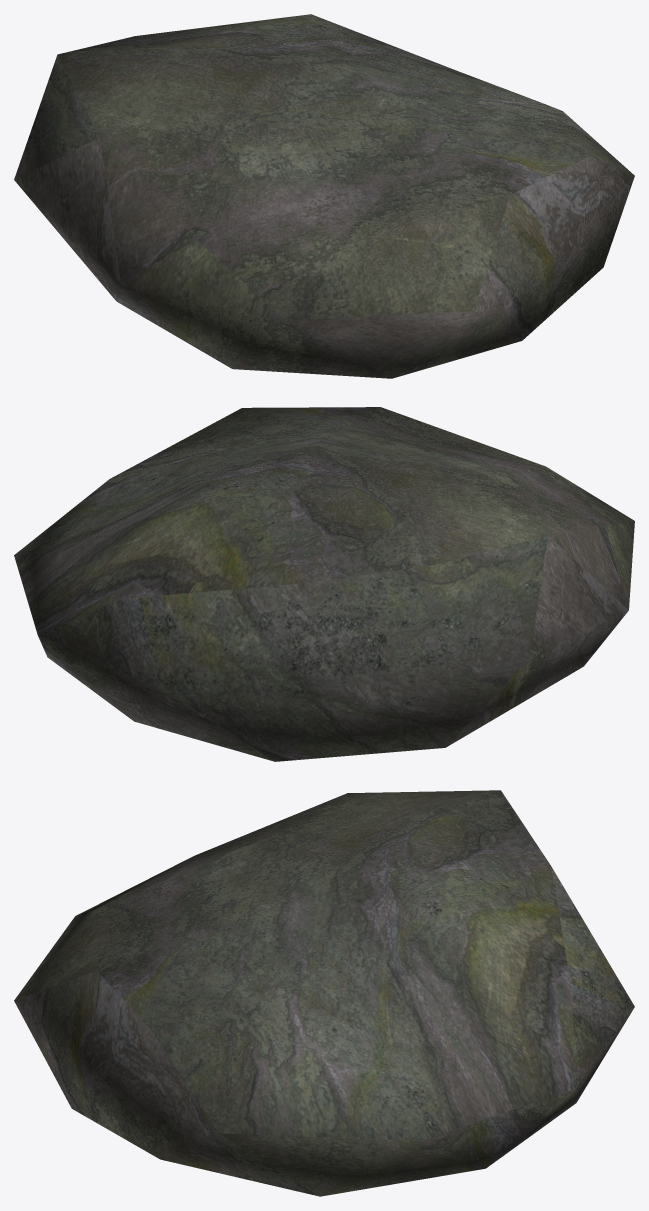
Rendered from SmallRock_1.fbx.
The picture shows the model from 3 angles, top to bottom: view 1: azimuth 30°, elevation 25°; view 2: azimuth 150°, elevation 25°; view 3: azimuth 270°, elevation 25°; orthographic projection. The views are drawn at different scales.
Parts seen in each view (by area): view 1: Icosphere; view 2: Icosphere; view 3: Icosphere.
Boxes of the visible parts, <box> form: Icosphere: <box>14,14,634,378</box>; Icosphere: <box>14,407,634,761</box>; Icosphere: <box>14,790,634,1196</box>.
Size of the model in its own units: 190 by 91.6 by 197.
1 material, 1 textured.
